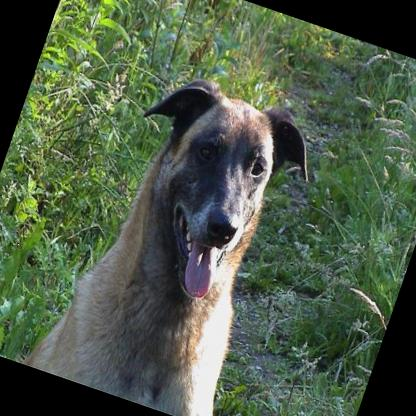malinois: (20, 50, 329, 416)
